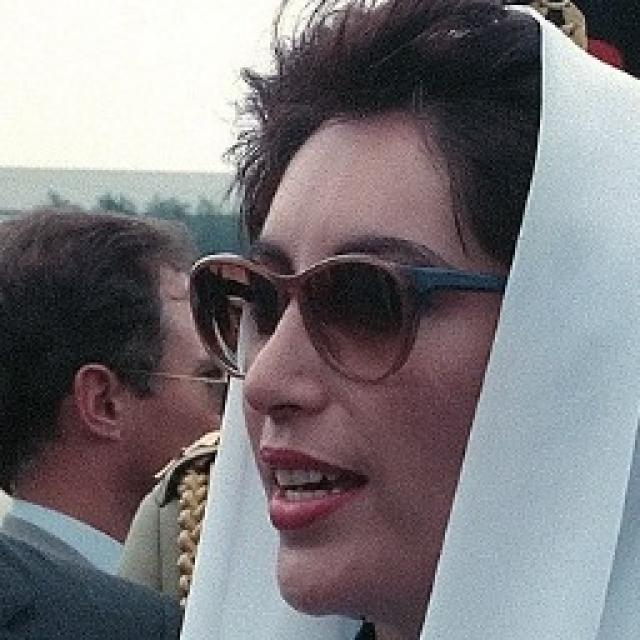glasses: (168, 229, 493, 380)
